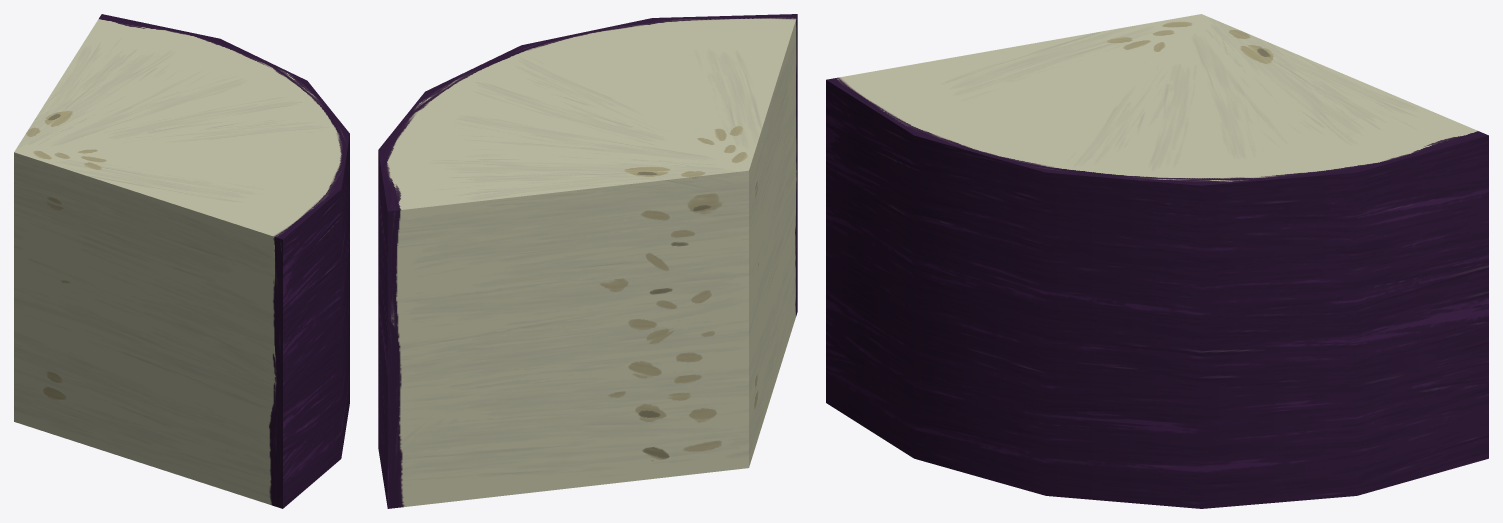
The model's file is Aubergine.gltf.
3 renders of one model, left to right at view 1: azimuth 30°, elevation 25°; view 2: azimuth 150°, elevation 25°; view 3: azimuth 270°, elevation 25°, orthographic. The views are drawn at different scales.
Visible parts, largest first — view 1: aubergine1; view 2: aubergine1; view 3: aubergine1.
Part boxes in pixels (bbox=[...]): aubergine1: bbox=[14, 14, 349, 508]; aubergine1: bbox=[378, 14, 797, 508]; aubergine1: bbox=[826, 14, 1488, 508].
Size of the model in its own units: 0.0594 by 0.0521 by 0.0969.
1 material, 1 textured.
